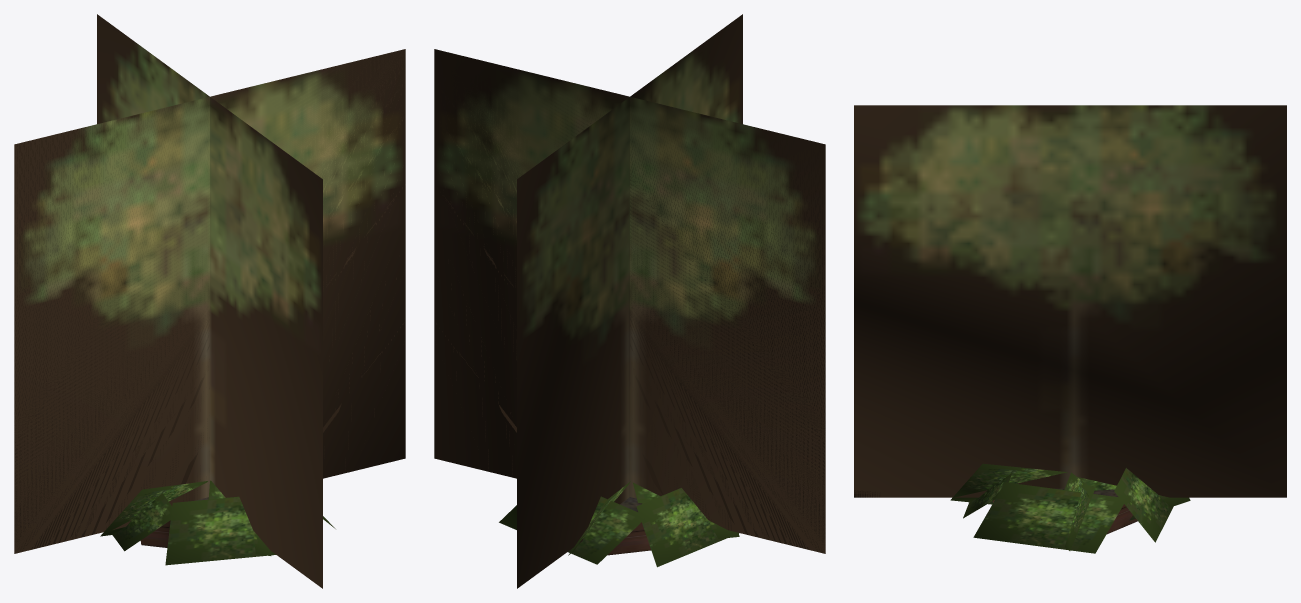
Rendered from mun_all_imprv_planter_s03_l3.fbx.
The picture shows the model from 3 angles, left to right: view 1: azimuth 30°, elevation 25°; view 2: azimuth 150°, elevation 25°; view 3: azimuth 270°, elevation 25°; orthographic projection. The views are drawn at different scales.
Parts seen in each view (by area): view 1: mesh_node; view 2: mesh_node; view 3: mesh_node.
Boxes of the visible parts, x1,y1,x2,y2 form: mesh_node: [14, 14, 405, 588]; mesh_node: [434, 14, 825, 588]; mesh_node: [854, 105, 1286, 553].
Size of the model in its own units: 13.03 by 13.76 by 13.03.
